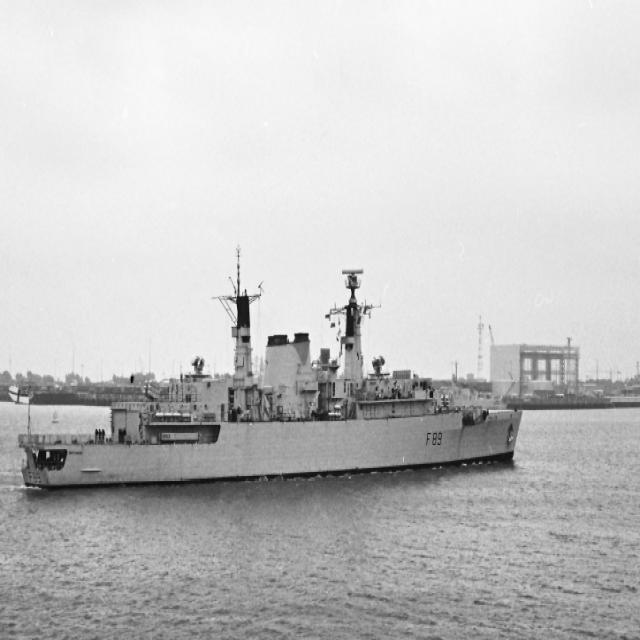Fragata: (19, 245, 524, 495)
